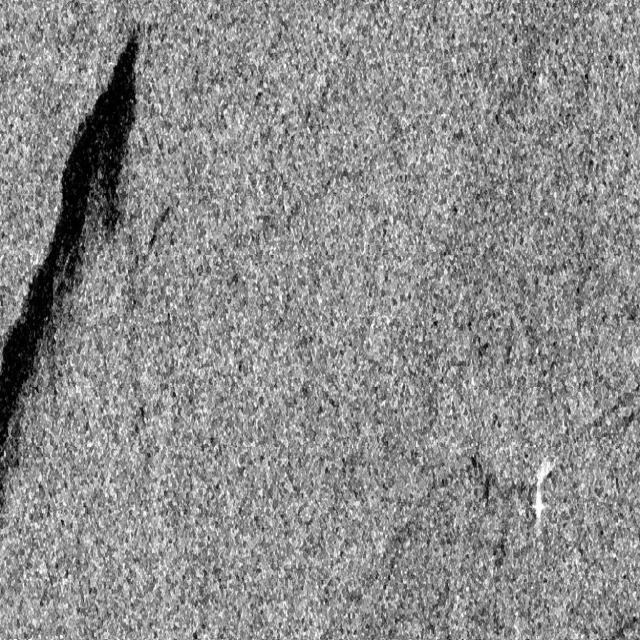oil-spill: (2, 23, 141, 476)
ship: (528, 456, 559, 530)
